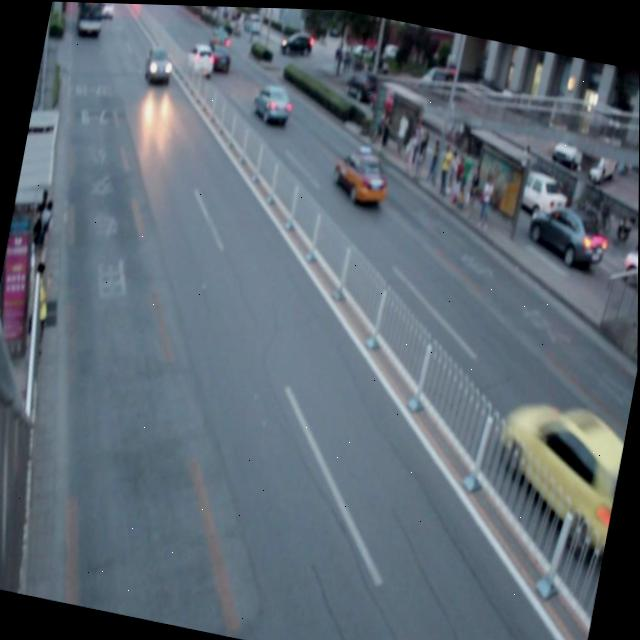car: (475, 382, 630, 555), (329, 141, 392, 204), (250, 78, 294, 127), (141, 43, 176, 86), (184, 39, 215, 79), (203, 37, 233, 75)
